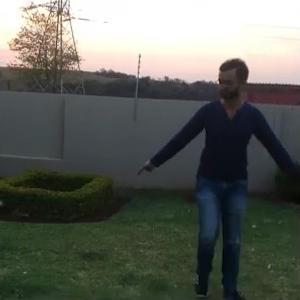land: (100, 27, 299, 297)
